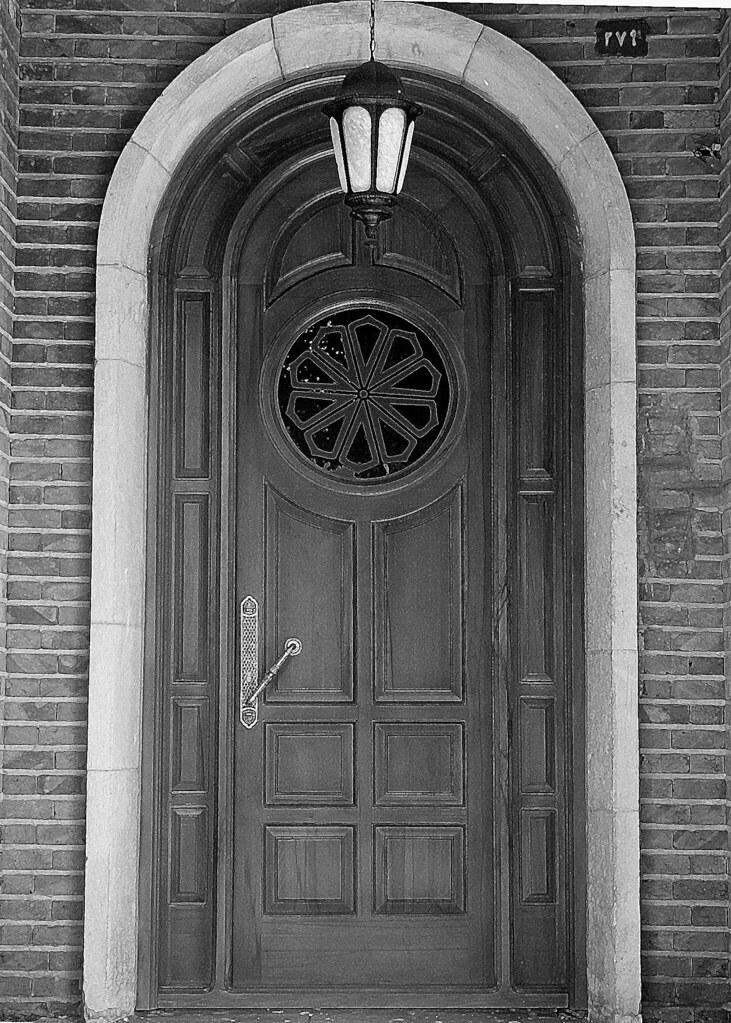door: (140, 63, 580, 1013)
